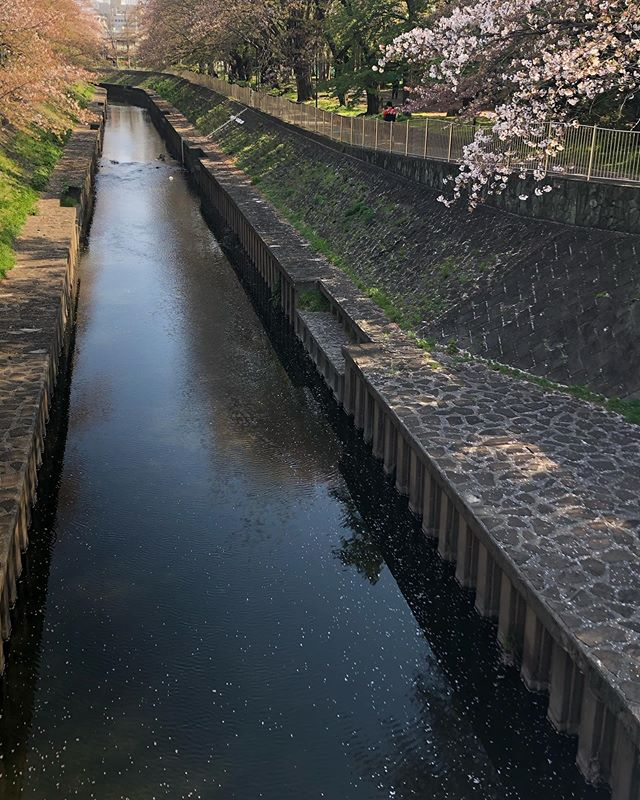river: (1, 125, 542, 800)
vegetation: (153, 1, 640, 149), (1, 3, 112, 175)
